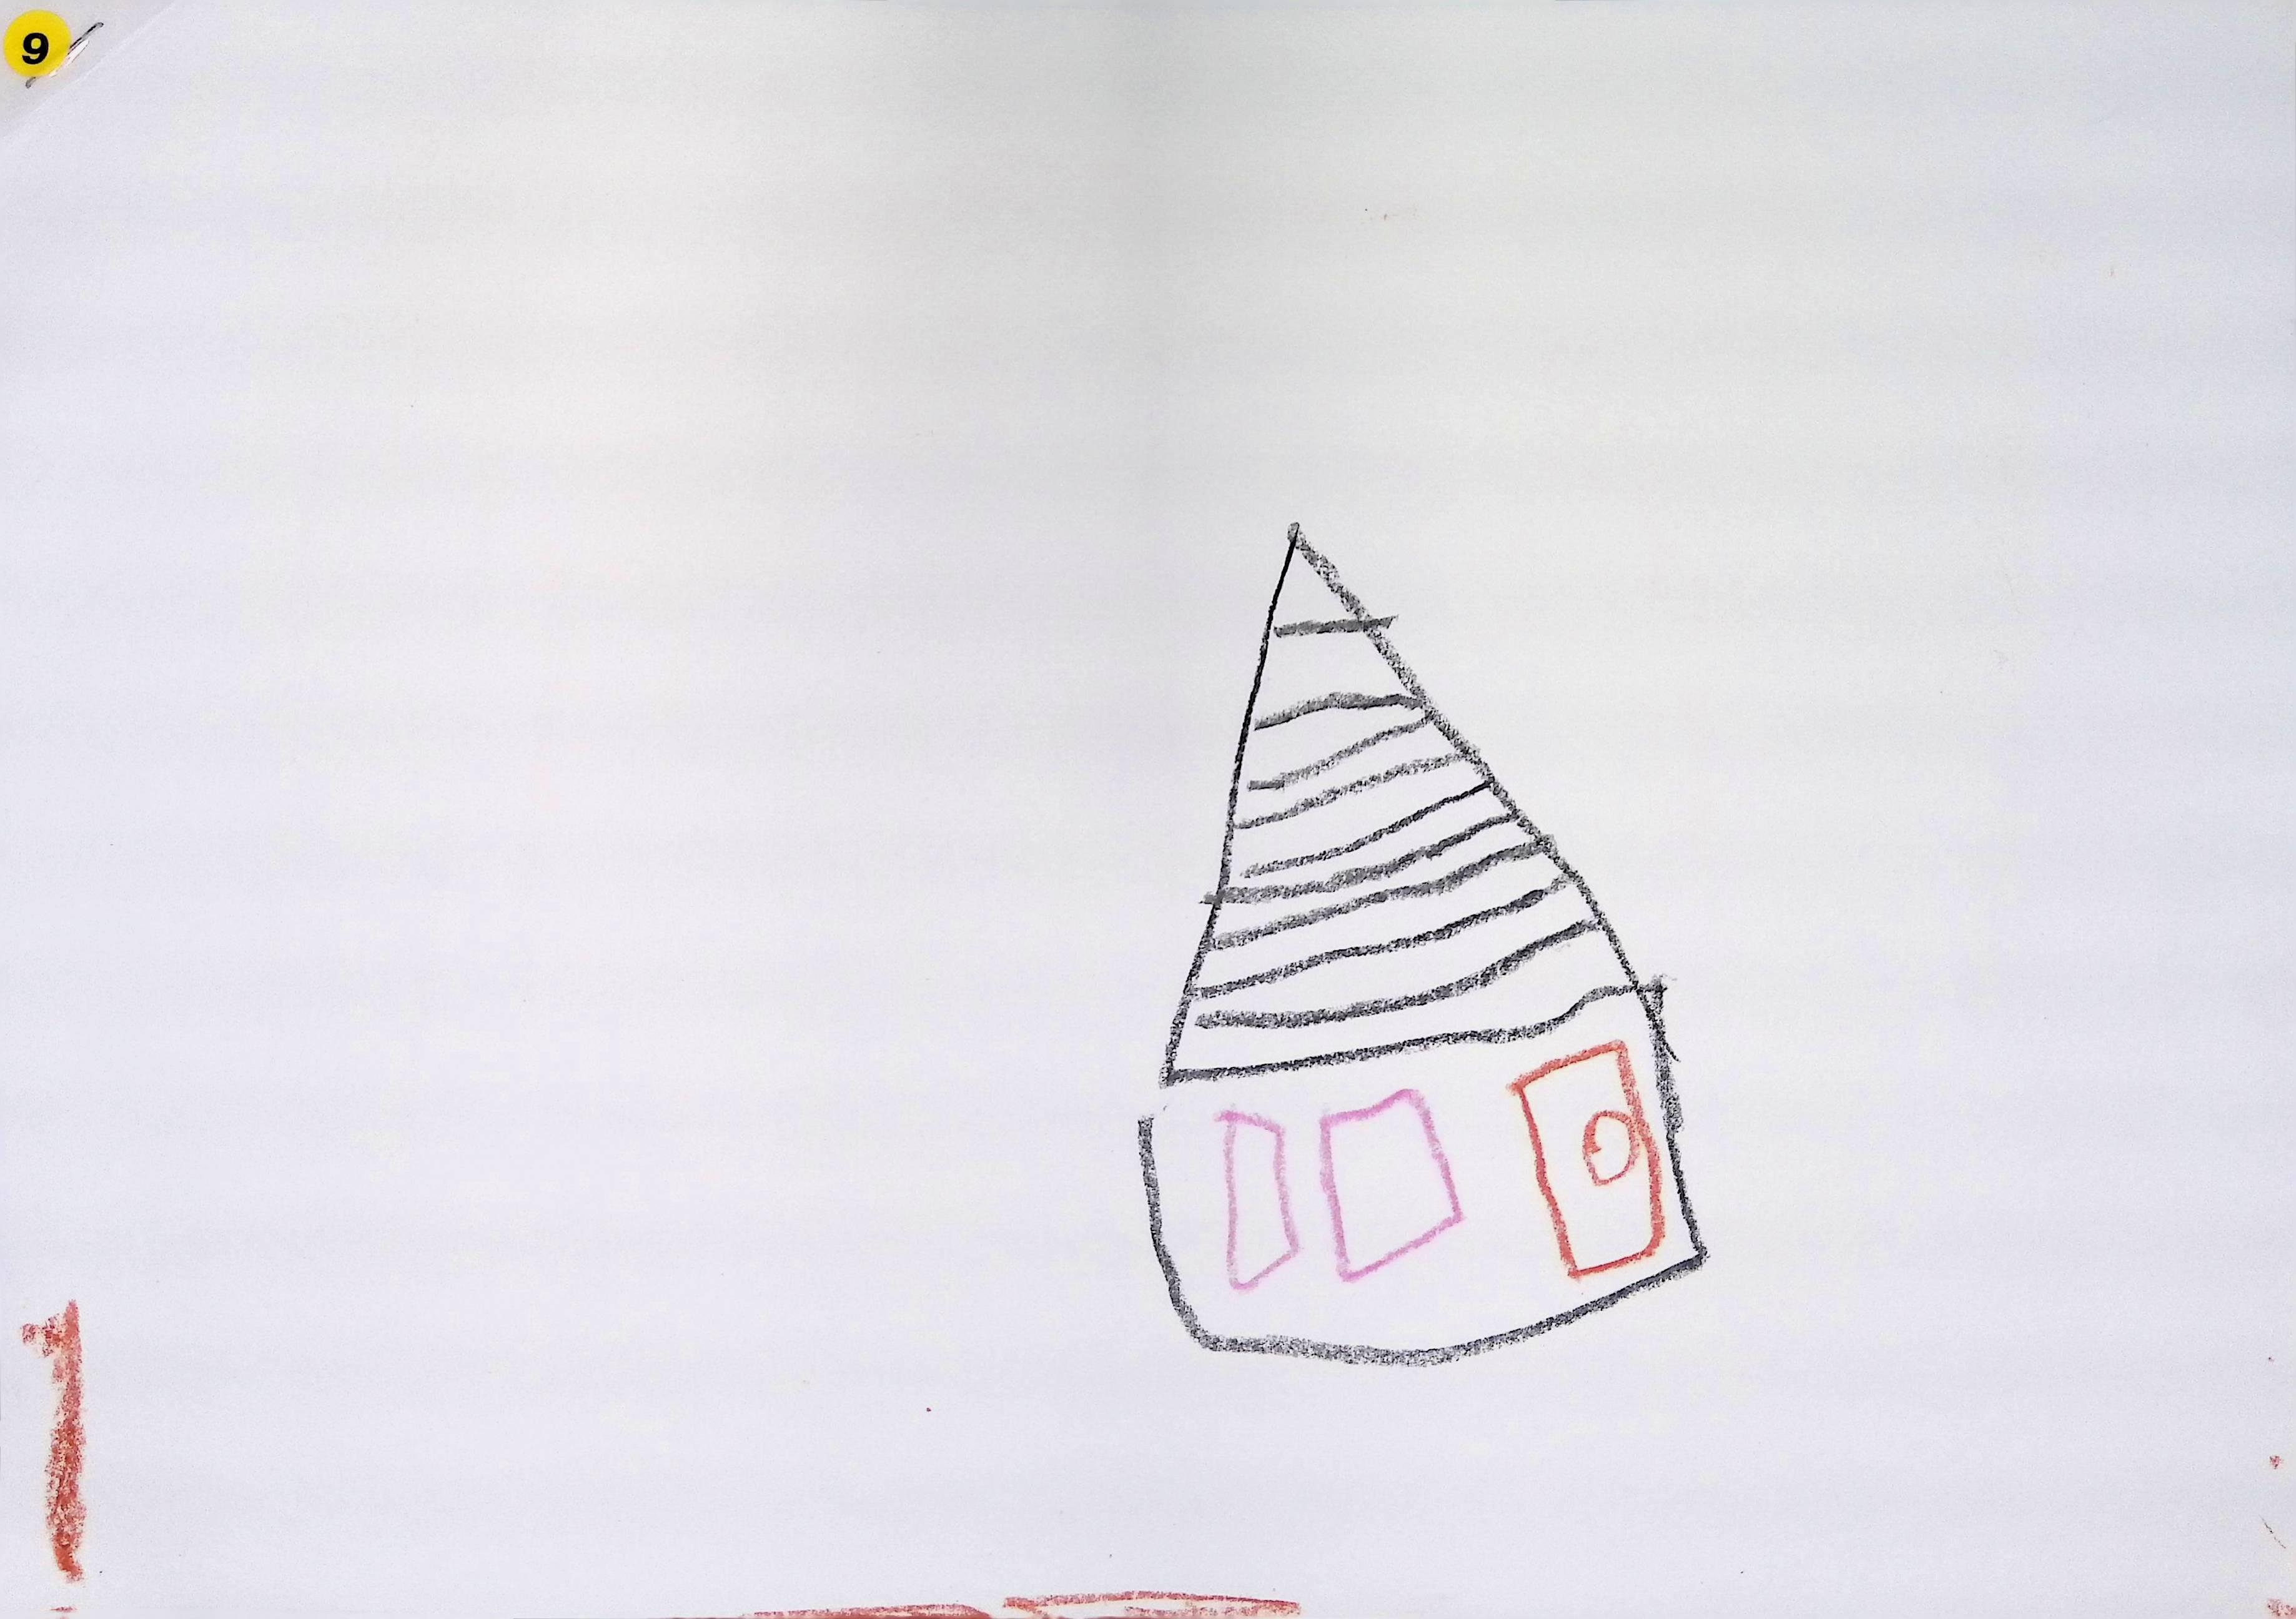door: (1511, 1041, 1667, 1279)
house: (1140, 524, 1706, 1363)
roof: (1159, 526, 1645, 1078)
wall: (1154, 990, 1702, 1365)
window: (1322, 1090, 1462, 1281), (1217, 1111, 1299, 1290)
